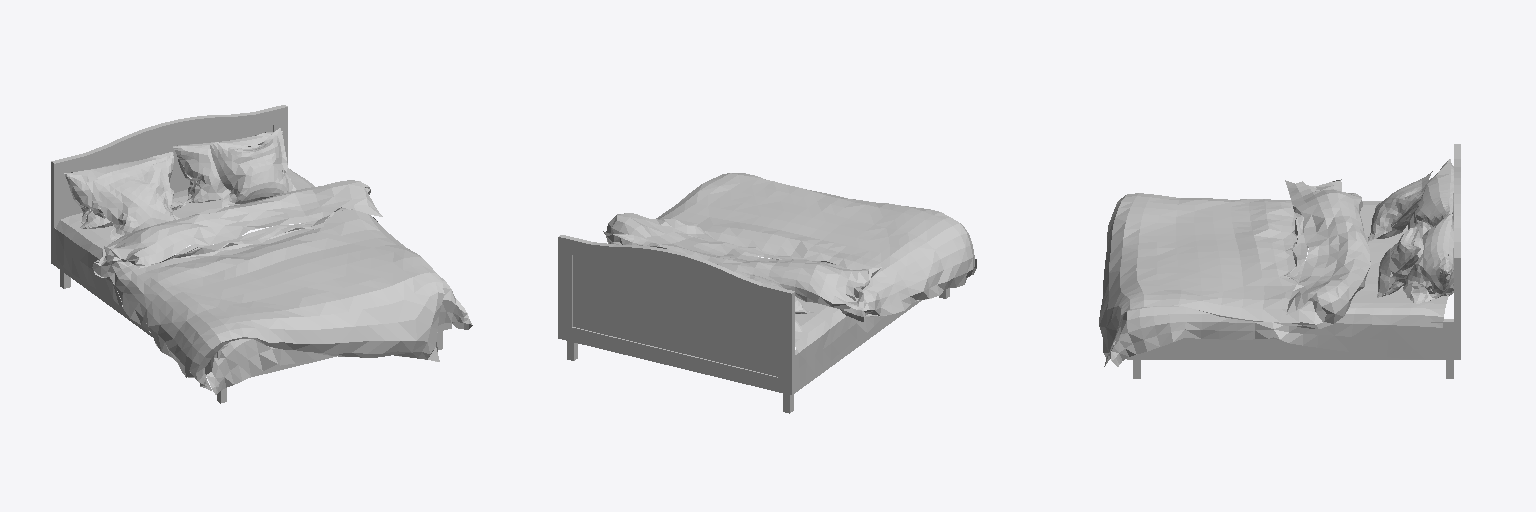
The model's file is Bed.obj.
The picture shows the model from 3 angles: view 1: azimuth 30°, elevation 25°; view 2: azimuth 150°, elevation 25°; view 3: azimuth 270°, elevation 25°; orthographic projection.
Size of the model in its own units: 1957 by 926 by 2252.